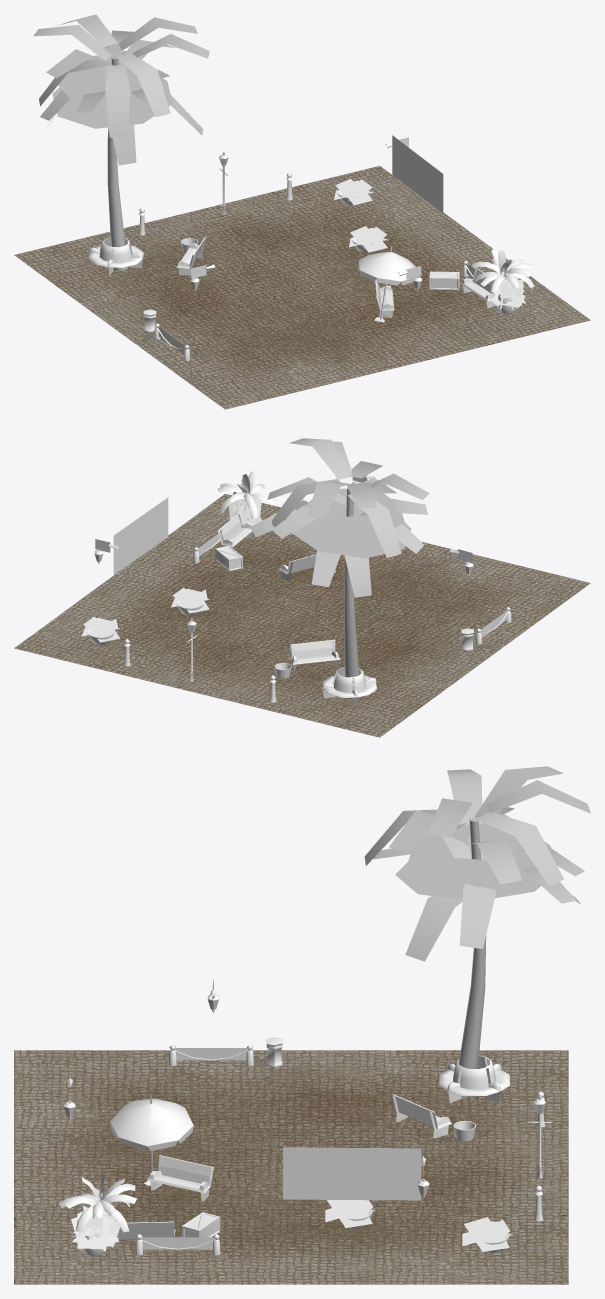
File: propsonly_4.gltf
3 renders of one model, top to bottom at view 1: azimuth 30°, elevation 25°; view 2: azimuth 150°, elevation 25°; view 3: azimuth 270°, elevation 25°, orthographic. The views are drawn at different scales.
Visible parts, largest first — view 1: ground.007, prop_tree4, prop_lights4, prop_sunshade4, prop_treepot_tree4, prop_bench4, prop_pot_flower4, prop_pot_flower4.001, prop_treepot_bush4, prop_bench4.002, prop_box4, prop_bench4.001; view 2: ground.007, prop_tree4, prop_lights4, prop_bench4, prop_treepot_tree4, prop_bench4.001, prop_bench4.002, prop_pot_flower4.001, prop_pot_flower4, prop_treepot_bush4, prop_box4, prop_bench4.003 (+1 smaller); view 3: ground.007, prop_tree4, prop_lights4, prop_sunshade4, prop_bench4, prop_treepot_tree4, prop_bench4.003, prop_treepot_bush4, prop_chain_fence4.001, prop_chain_fence4, prop_pot_flower4, prop_bench4.001 (+3 smaller).
Part boxes in pixels (x1,y1,x2,y2): ground.007: [14, 166, 590, 409]; prop_tree4: [33, 14, 209, 270]; prop_lights4: [392, 135, 443, 213]; prop_sunshade4: [358, 246, 415, 322]; prop_treepot_tree4: [472, 248, 534, 293]; prop_bench4: [88, 237, 143, 275]; prop_pot_flower4: [334, 179, 373, 205]; prop_pot_flower4.001: [349, 226, 388, 252]; prop_treepot_bush4: [491, 276, 526, 309]; prop_bench4.002: [460, 267, 496, 308]; prop_box4: [429, 271, 459, 290]; prop_bench4.001: [176, 236, 206, 275]; ground.007: [14, 494, 590, 737]; prop_tree4: [250, 438, 429, 677]; prop_lights4: [113, 497, 168, 574]; prop_bench4: [321, 667, 377, 705]; prop_treepot_tree4: [217, 471, 276, 518]; prop_bench4.001: [289, 639, 340, 671]; prop_bench4.002: [217, 513, 252, 548]; prop_pot_flower4.001: [171, 587, 209, 613]; prop_pot_flower4: [81, 616, 119, 642]; prop_treepot_bush4: [228, 498, 262, 525]; prop_box4: [215, 545, 242, 571]; prop_bench4.003: [278, 554, 316, 581]; ground.007: [14, 1050, 568, 1284]; prop_tree4: [364, 766, 590, 1097]; prop_lights4: [283, 1147, 421, 1200]; prop_sunshade4: [110, 1095, 193, 1185]; prop_bench4: [438, 1055, 509, 1102]; prop_treepot_tree4: [58, 1172, 136, 1232]; prop_bench4.003: [147, 1155, 213, 1201]; prop_treepot_bush4: [71, 1206, 120, 1251]; prop_chain_fence4.001: [168, 1045, 253, 1066]; prop_chain_fence4: [135, 1234, 220, 1255]; prop_pot_flower4: [462, 1217, 512, 1251]; prop_bench4.001: [391, 1094, 451, 1138].
Size of what is drawn, in the model's own units: 3.35 by 2.16 by 3.43.
